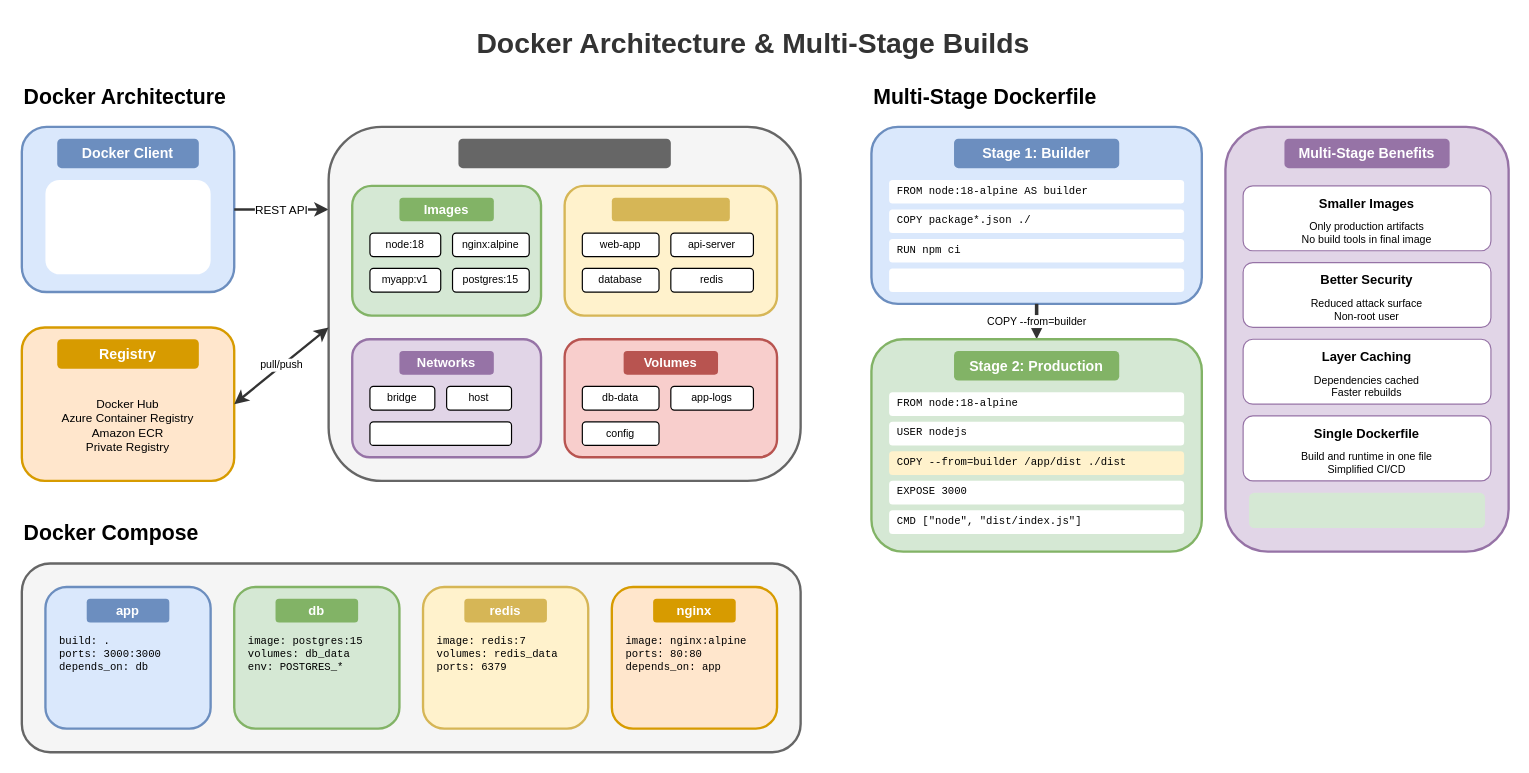
Some shapes in this 1529 by 773 pixel diagram are drawn without their labels. Here are the shapes that lost their labels. From the top down, the centre of each, then its label:
At point (564, 153): "Docker Host (Daemon)".
At point (127, 226): "docker build docker pull docker run docker push".
At point (670, 209): "Containers".
At point (1036, 279): "RUN npm run build".
At point (440, 433): "app-network".
At point (1366, 509): "Image Size: 1.2GB → 150MB".
